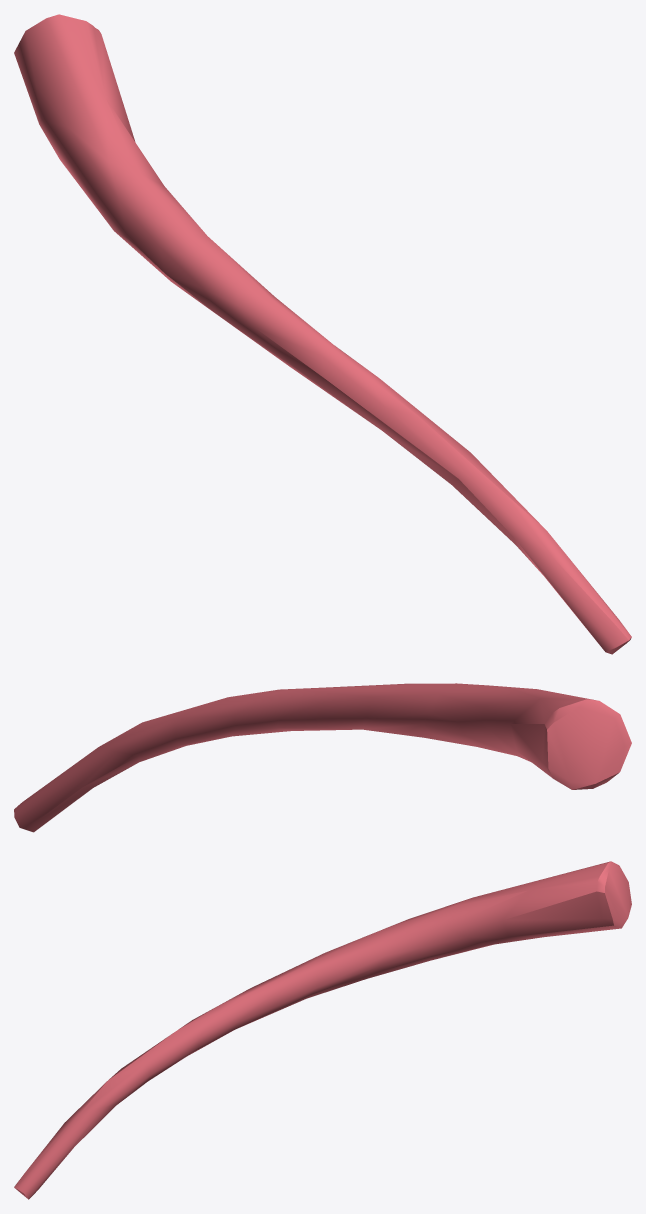
Rendered from fma68683_fj2975.glb.
3 renders of one model, top to bottom at view 1: azimuth 30°, elevation 25°; view 2: azimuth 210°, elevation 25°; view 3: azimuth 270°, elevation 25°, orthographic. The views are drawn at different scales.
Parts seen in each view (by area): view 1: FMA68683_FJ2975; view 2: FMA68683_FJ2975; view 3: FMA68683_FJ2975.
Boxes of the visible parts, x1,y1,x2,y2 form: FMA68683_FJ2975: (14, 14, 631, 654); FMA68683_FJ2975: (14, 683, 631, 832); FMA68683_FJ2975: (14, 861, 631, 1199).
Size of the model in its own units: 0.0171 by 0.0273 by 0.0543.
